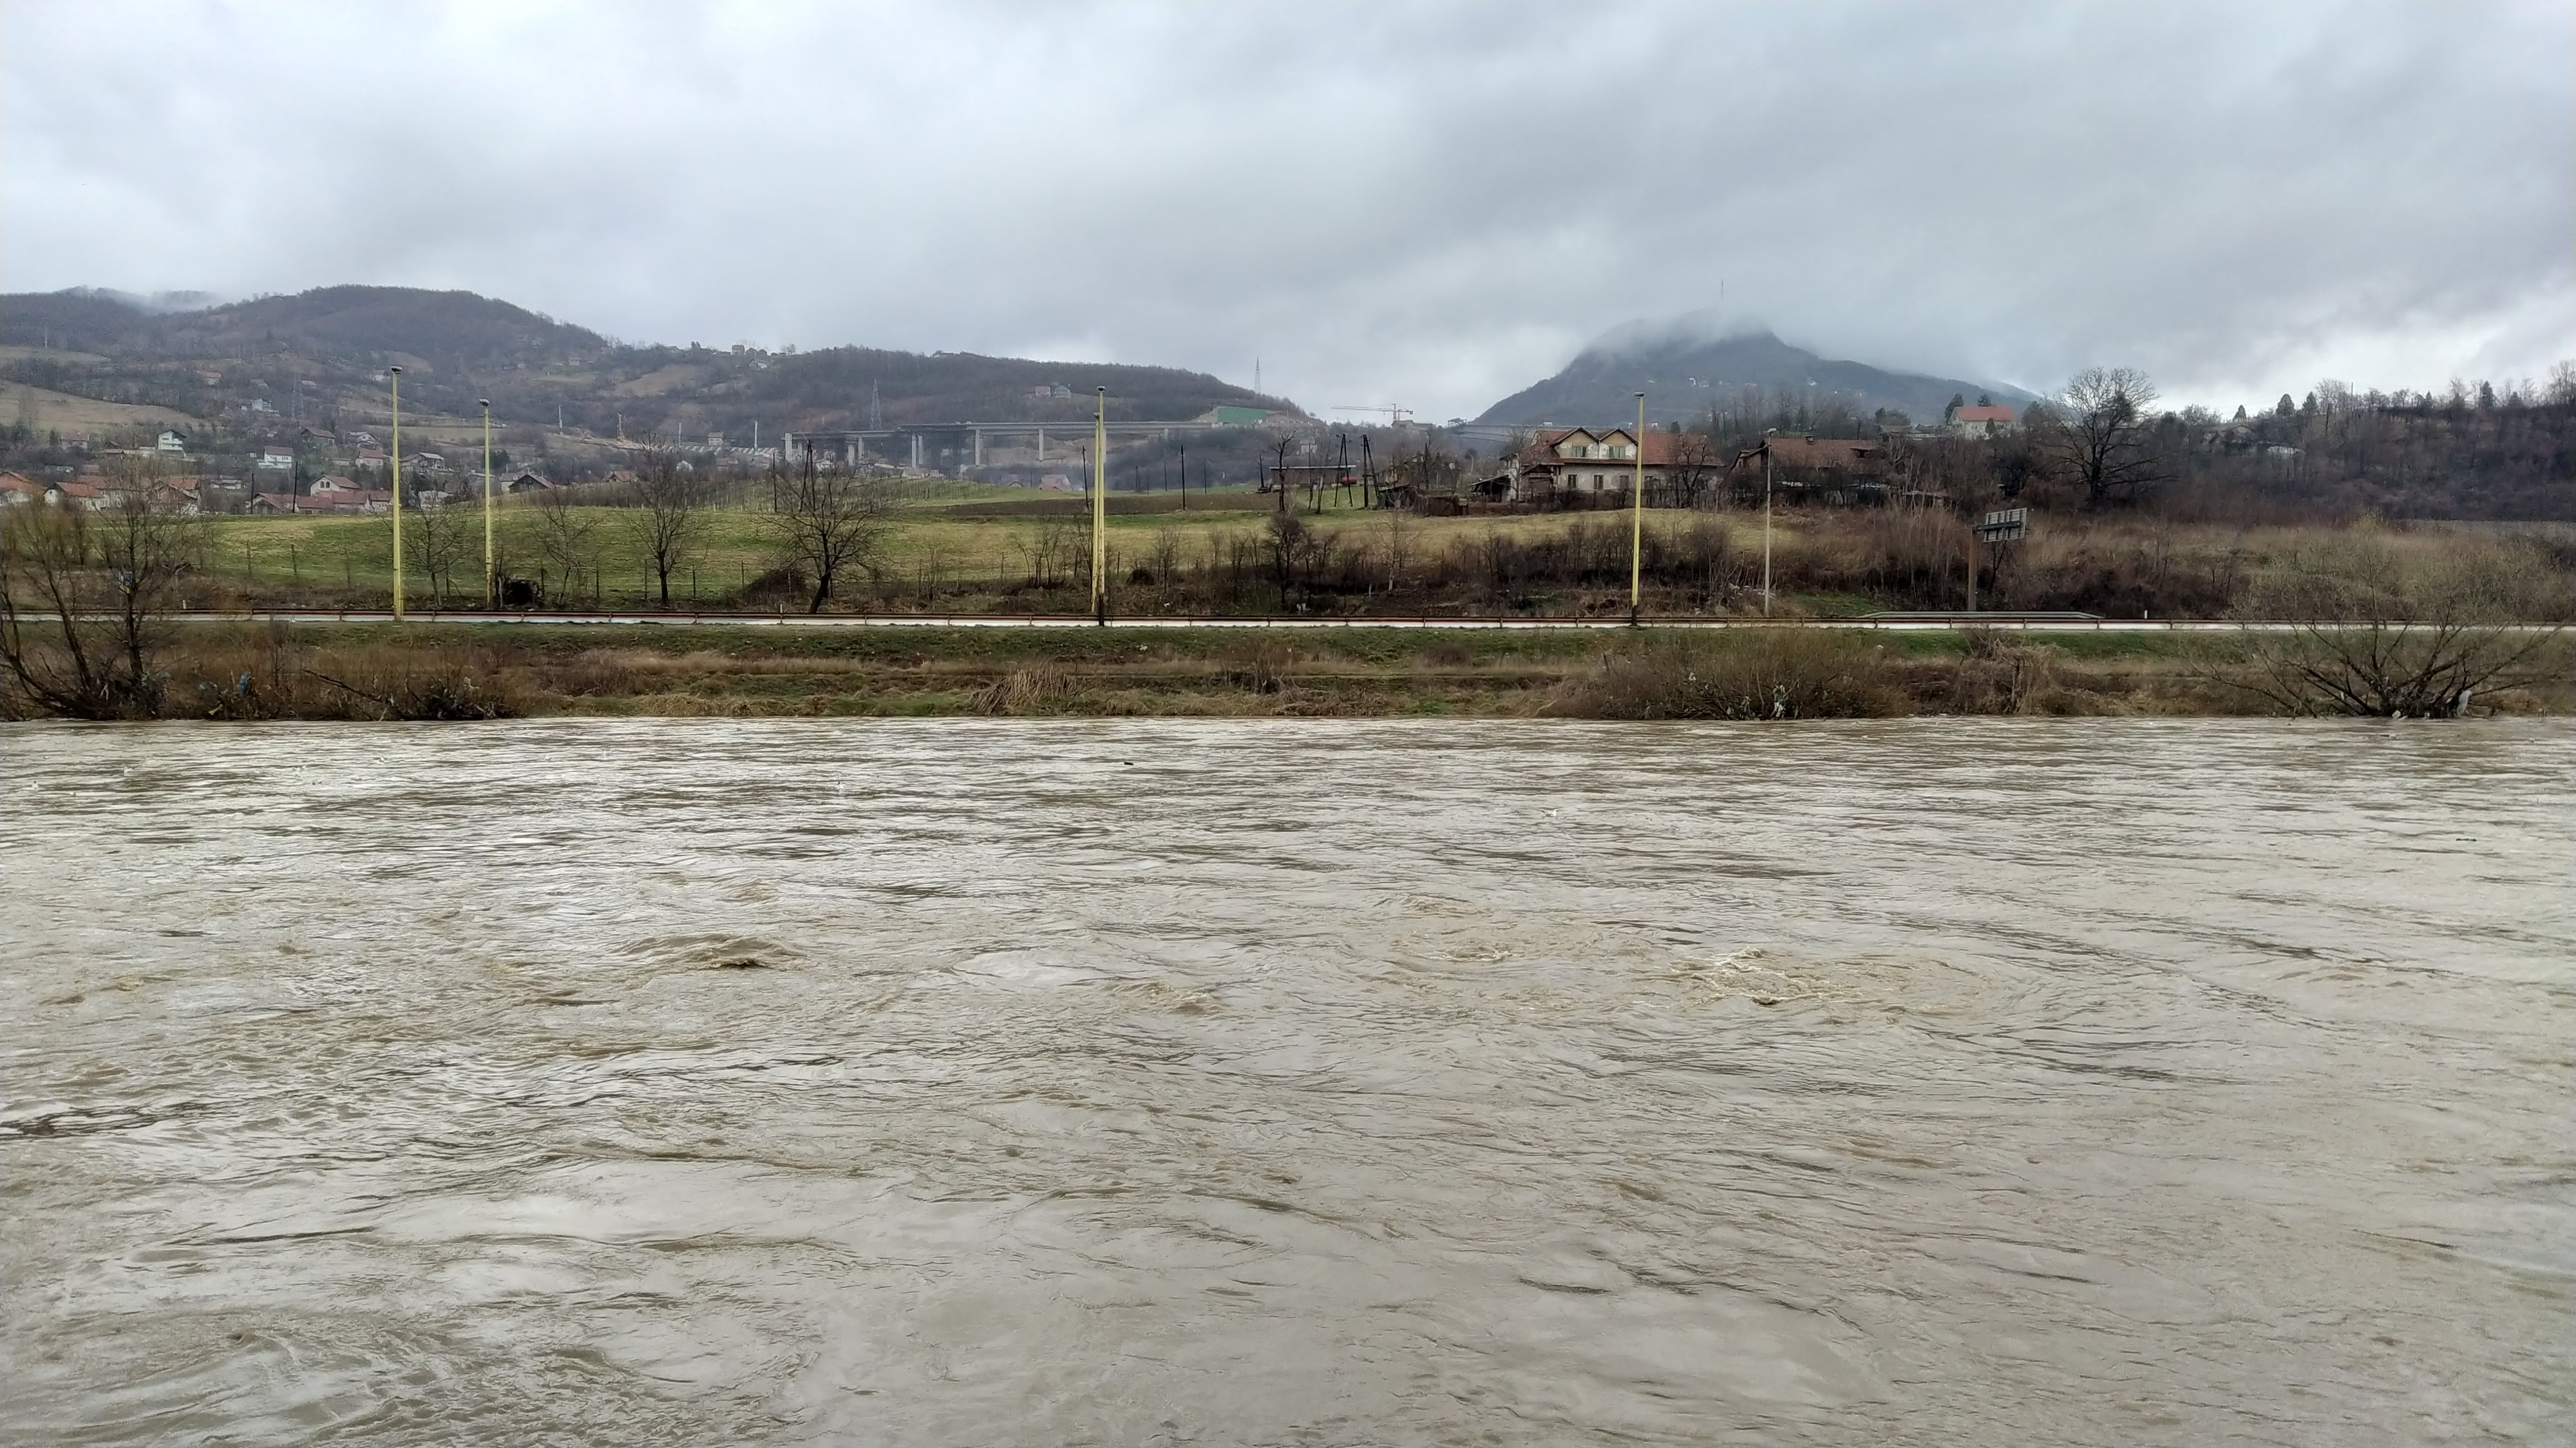Plastic Bottle: (1125, 761, 1134, 765)
